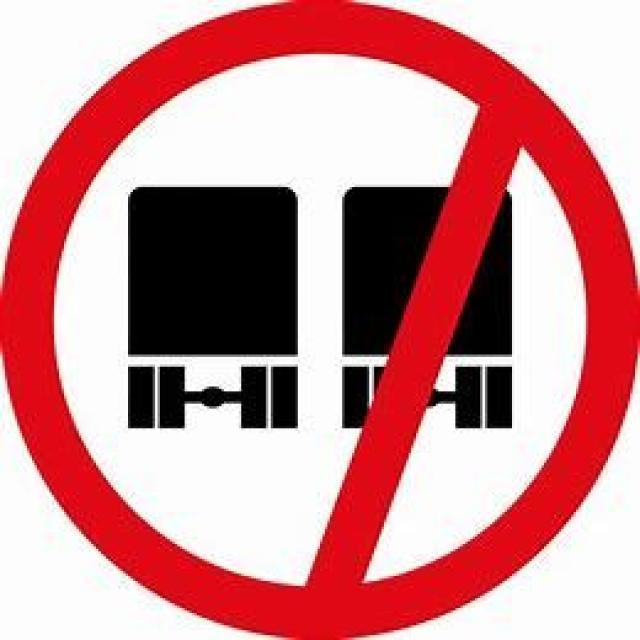overtaking prohibited: (33, 28, 614, 620)
